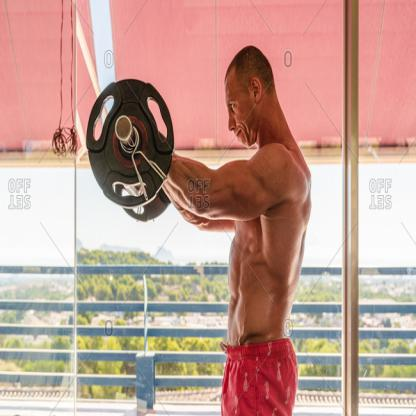Barbell: (84, 74, 180, 210)
